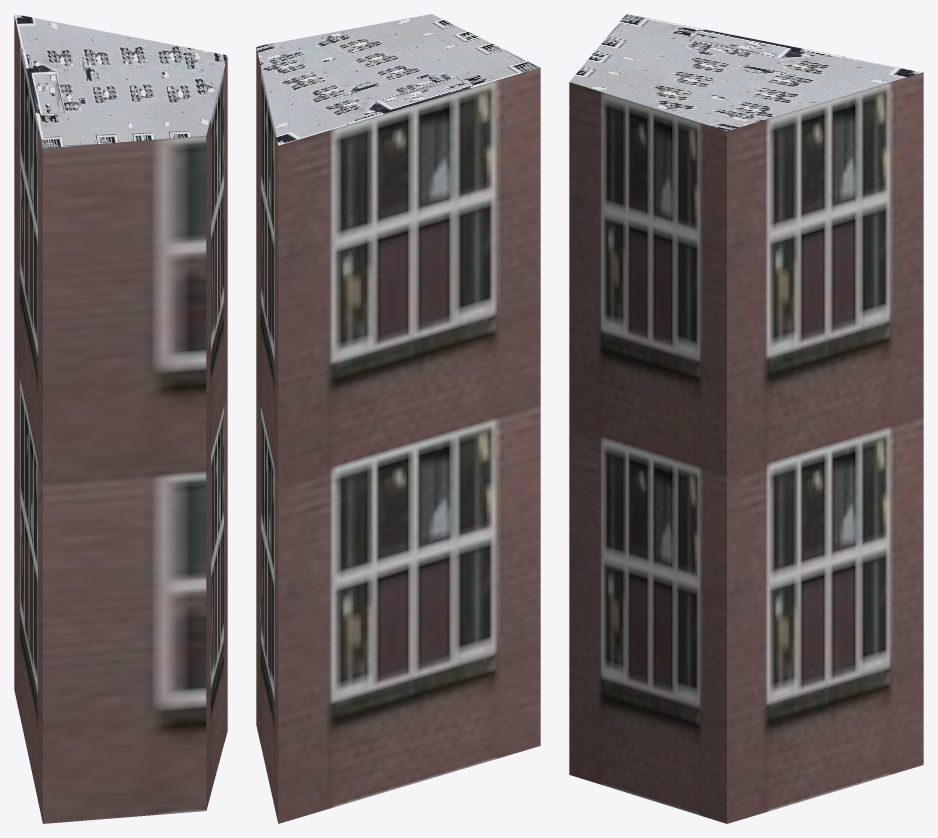
The model's file is ResTex__4523.fbx.
The picture shows the model from 3 angles, left to right: view 1: azimuth 30°, elevation 25°; view 2: azimuth 150°, elevation 25°; view 3: azimuth 270°, elevation 25°; orthographic projection. The views are drawn at different scales.
Parts seen in each view (by area): view 1: CityEngineMaterial_12_m, CityEngineMaterial_8_m; view 2: CityEngineMaterial_12_m, CityEngineMaterial_8_m; view 3: CityEngineMaterial_12_m, CityEngineMaterial_8_m.
Part boxes in pixels (x1,y1,x2,y2): CityEngineMaterial_12_m: [14, 15, 227, 823]; CityEngineMaterial_8_m: [14, 14, 227, 148]; CityEngineMaterial_12_m: [256, 48, 540, 823]; CityEngineMaterial_8_m: [256, 14, 540, 145]; CityEngineMaterial_12_m: [569, 72, 923, 823]; CityEngineMaterial_8_m: [570, 14, 922, 130].
Size of the model in its own units: 2.18 by 6 by 2.78.
Materials: 2 (2 with a texture image).
